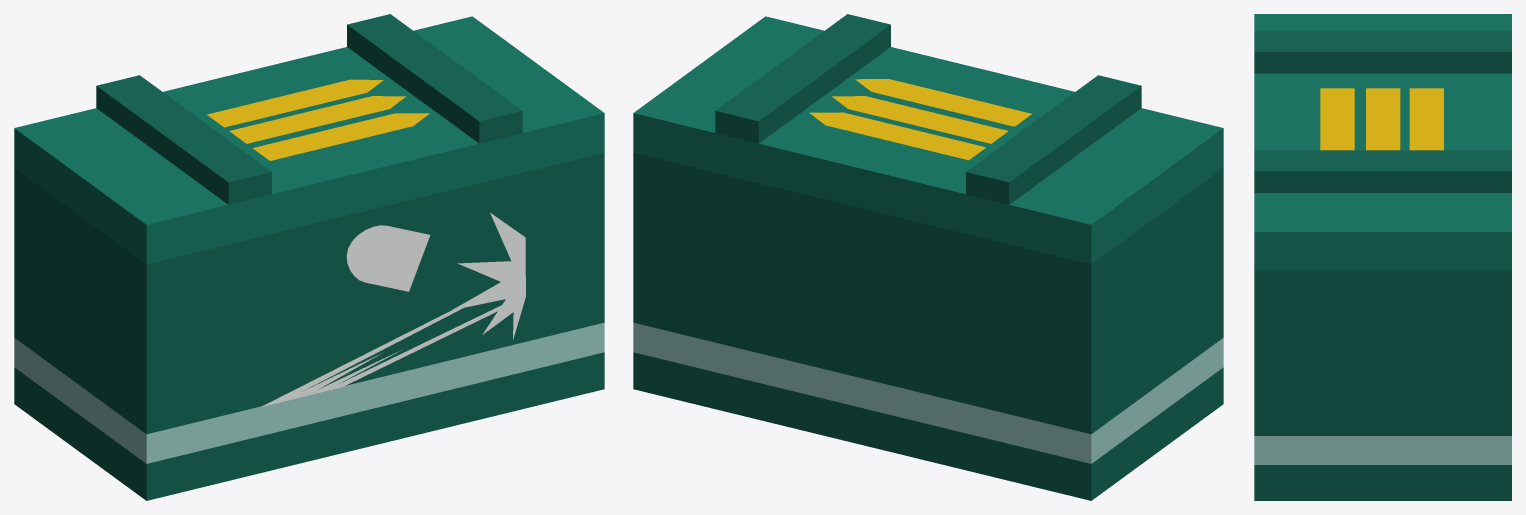
File: Ammo.Container.002.fbx
3 views of the same model, side by side, from view 1: azimuth 30°, elevation 25°; view 2: azimuth 150°, elevation 25°; view 3: azimuth 270°, elevation 25° (orthographic). The views are drawn at different scales.
Parts seen in each view (by area): view 1: Ammo.Container.002; view 2: Ammo.Container.002; view 3: Ammo.Container.002.
Boxes of the visible parts, x1,y1,x2,y2 form: Ammo.Container.002: [14, 14, 604, 500]; Ammo.Container.002: [633, 14, 1223, 500]; Ammo.Container.002: [1254, 14, 1511, 500].
Size of the model in its own units: 1.8 by 1.12 by 0.9069.
